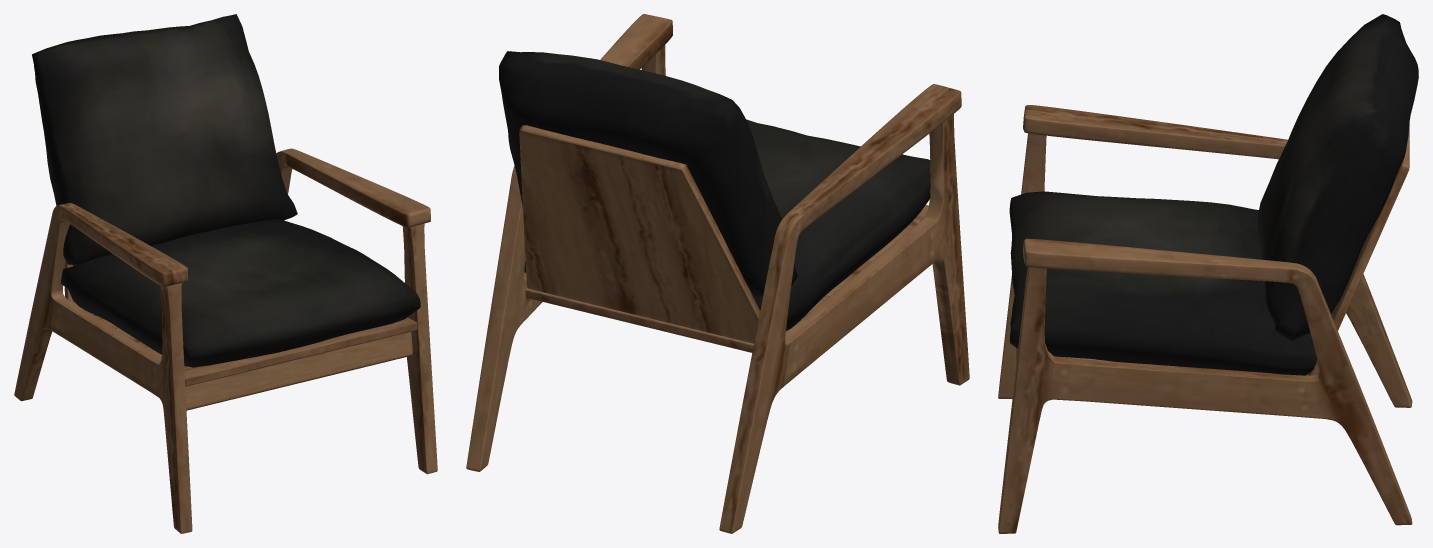
Rendered from modern_arm_chair_01.glb.
The picture shows the model from 3 angles, left to right: view 1: azimuth 30°, elevation 25°; view 2: azimuth 150°, elevation 25°; view 3: azimuth 270°, elevation 25°; orthographic projection. The views are drawn at different scales.
Parts seen in each view (by area): view 1: modern_arm_chair_01; view 2: modern_arm_chair_01; view 3: modern_arm_chair_01.
Boxes of the visible parts, <box> form: modern_arm_chair_01: <box>14,14,437,533</box>; modern_arm_chair_01: <box>466,14,969,533</box>; modern_arm_chair_01: <box>998,14,1418,533</box>.
Bounding box in the file's own units: 0.8203 × 1.02 × 0.9866.
2 materials, 2 textured.
